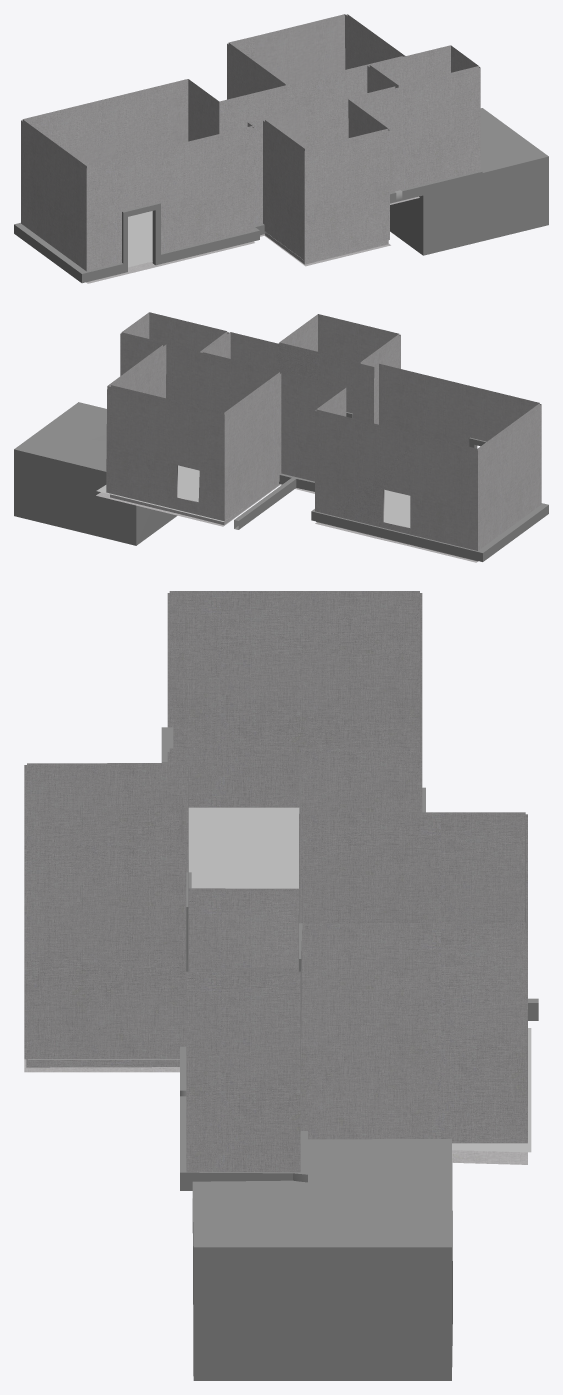
The model's file is Layoutfin 1.fbx.
The picture shows the model from 3 angles, top to bottom: view 1: azimuth 30°, elevation 25°; view 2: azimuth 150°, elevation 25°; view 3: azimuth 270°, elevation 25°; orthographic projection. The views are drawn at different scales.
Visible parts, largest first — view 1: Plane007, Plane008, Box016, Object010; view 2: Plane007, Plane008, Box016, Object010; view 3: Plane007, Plane008, Object010, Box016.
Boxes of the visible parts, bbox=[...] form: Plane007: bbox=[21, 14, 480, 283]; Plane008: bbox=[390, 108, 548, 255]; Box016: bbox=[14, 170, 482, 283]; Object010: bbox=[128, 211, 302, 267]; Plane007: bbox=[96, 312, 541, 562]; Plane008: bbox=[14, 402, 177, 545]; Box016: bbox=[234, 412, 548, 561]; Object010: bbox=[96, 465, 410, 527]; Plane007: bbox=[24, 591, 527, 1172]; Plane008: bbox=[192, 1139, 452, 1380]; Object010: bbox=[28, 807, 531, 1152]; Box016: bbox=[161, 727, 538, 1190].
Size of the model in its own units: 570 by 204 by 275.
